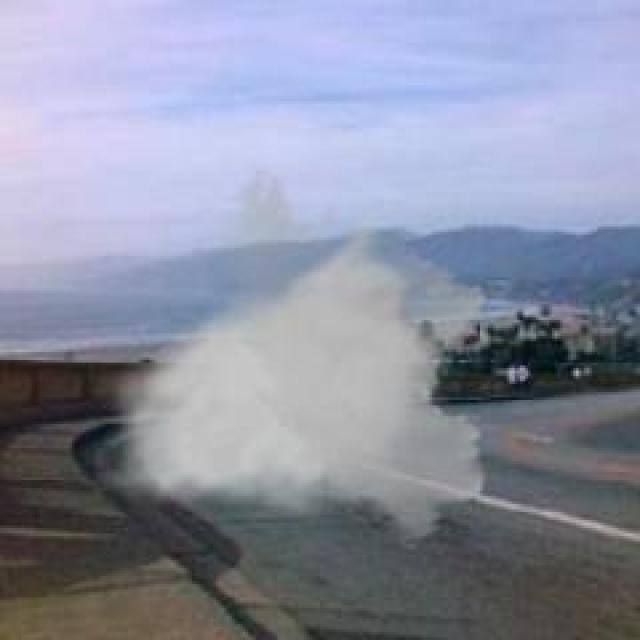Smoke: (121, 163, 494, 555)
